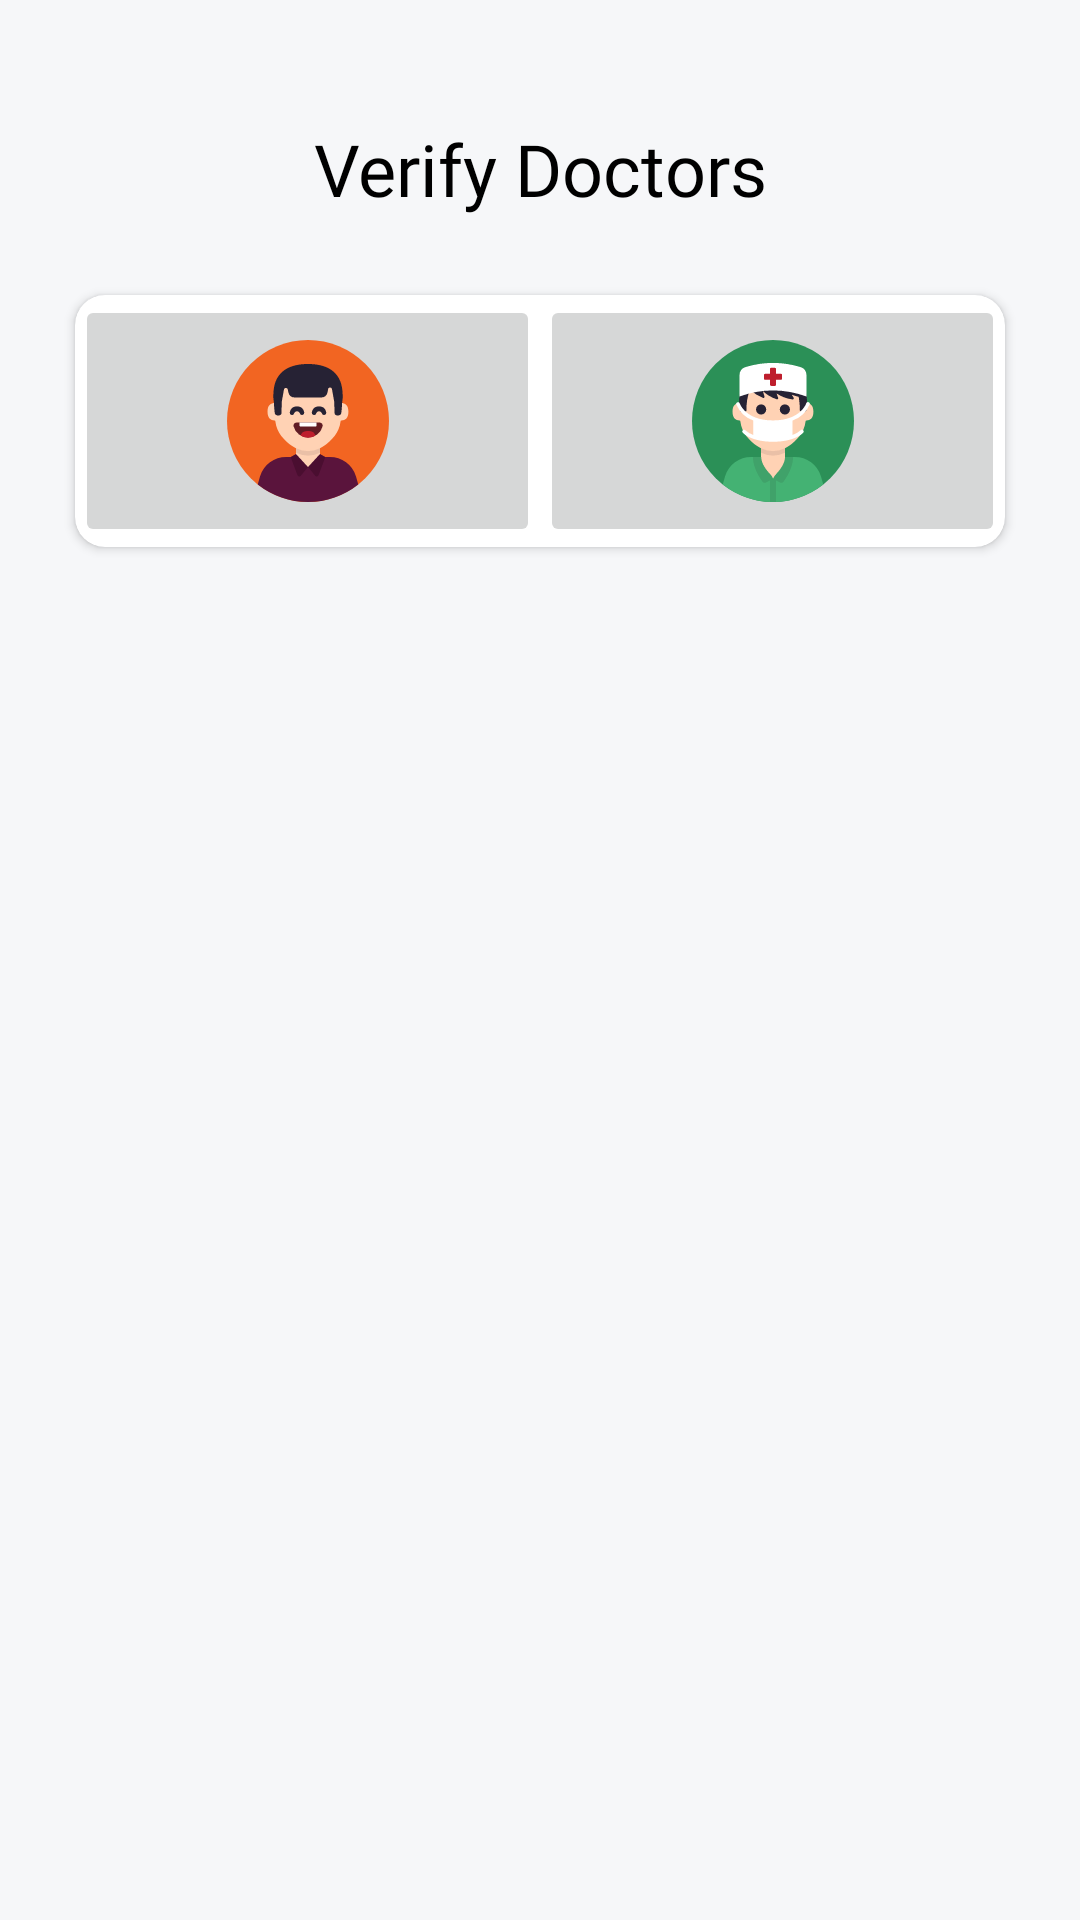

Point at icon controls on the screen. Image size 1080 x 1920, points as [x,y].
happy: [308,421]
surgeon: [773,421]
